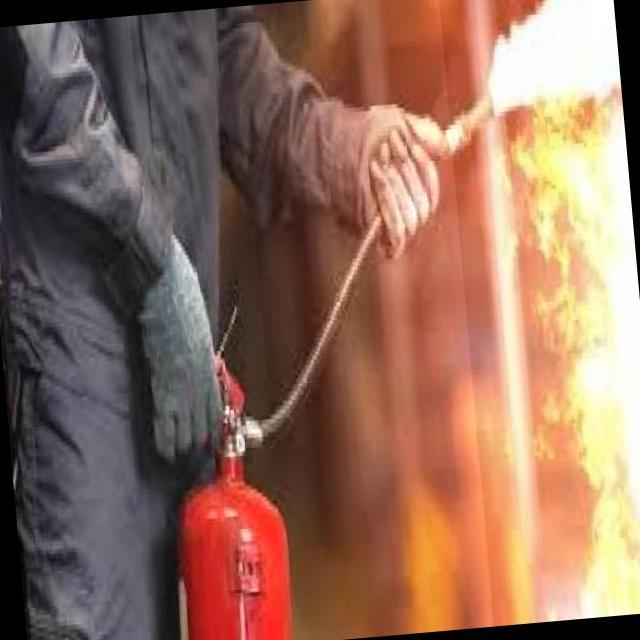Gloves: (113, 230, 256, 509), (339, 82, 461, 274)
